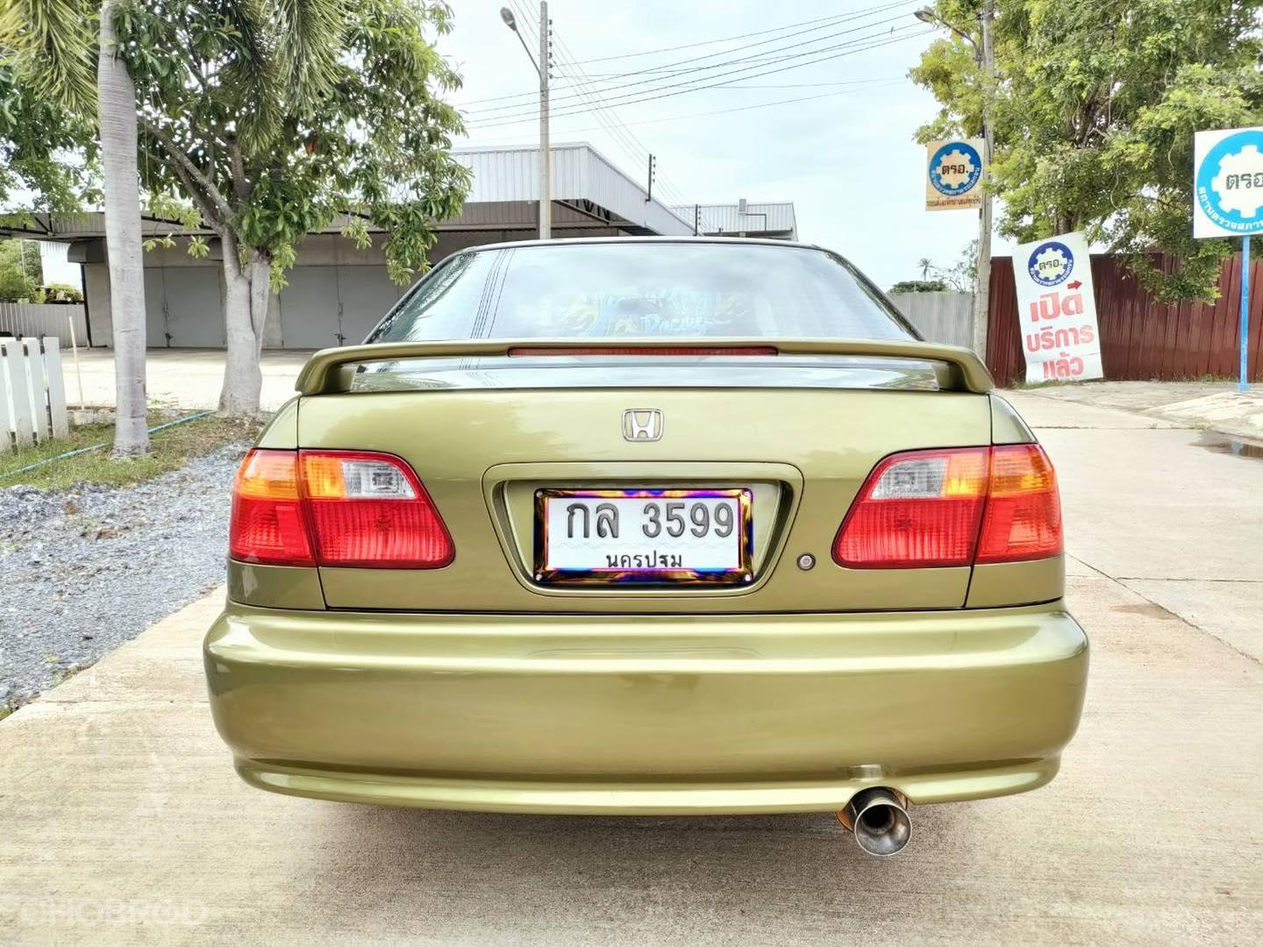license-plate: (534, 485, 755, 590)
